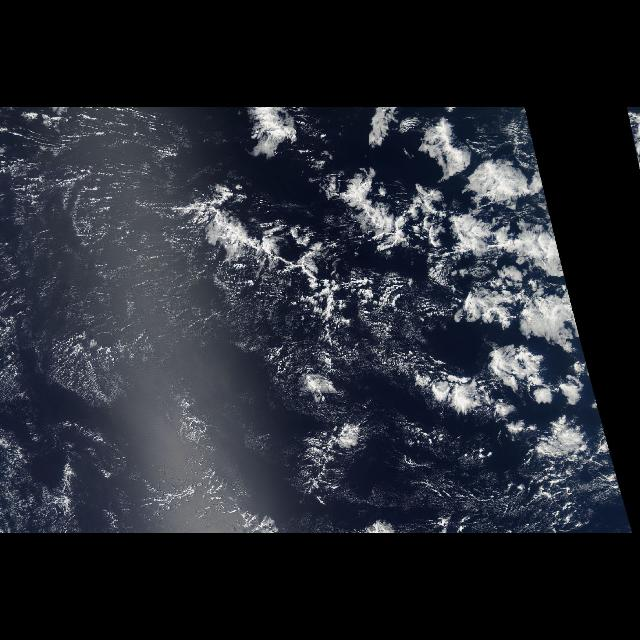Fish: (311, 154, 454, 290)
Flower: (346, 117, 614, 465)
Gravel: (261, 232, 471, 400)
Sugar: (2, 109, 228, 533)
